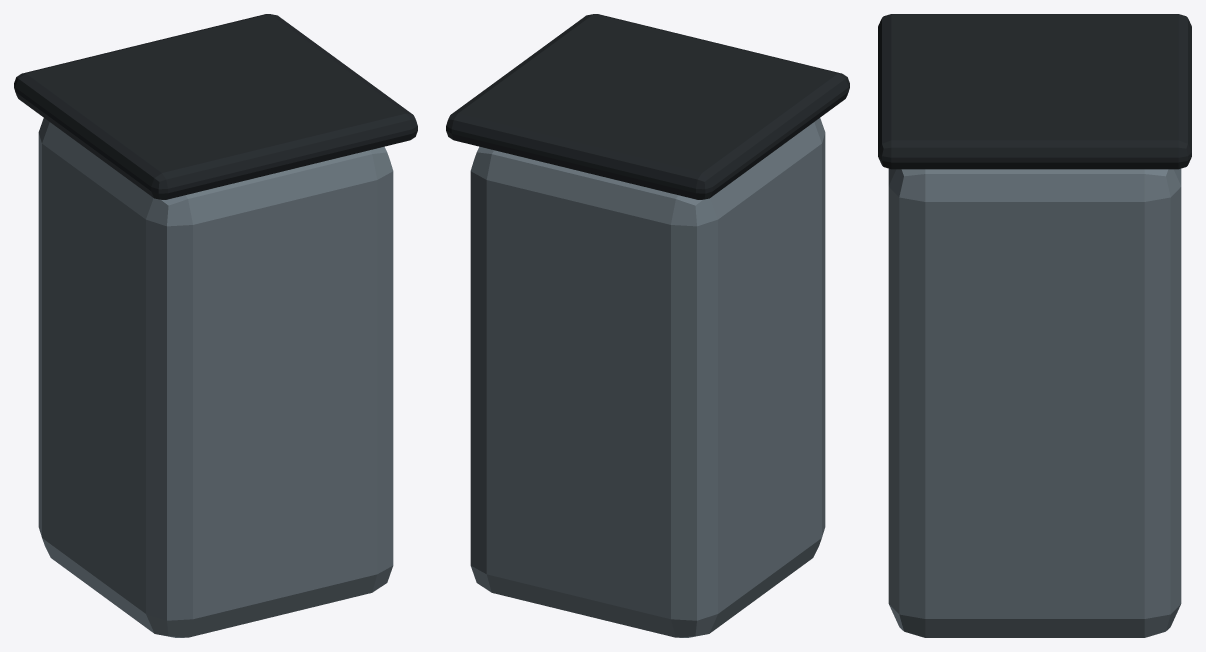
Rendered from Bin.fbx.
The picture shows the model from 3 angles, left to right: view 1: azimuth 30°, elevation 25°; view 2: azimuth 150°, elevation 25°; view 3: azimuth 270°, elevation 25°; orthographic projection. The views are drawn at different scales.
Visible parts, largest first — view 1: Body.044; view 2: Body.044; view 3: Body.044.
Boxes of the visible parts, x1,y1,x2,y2 form: Body.044: [14, 14, 417, 637]; Body.044: [446, 14, 849, 637]; Body.044: [878, 14, 1191, 637].
Size of the model in its own units: 0.62 by 1.08 by 0.6.
